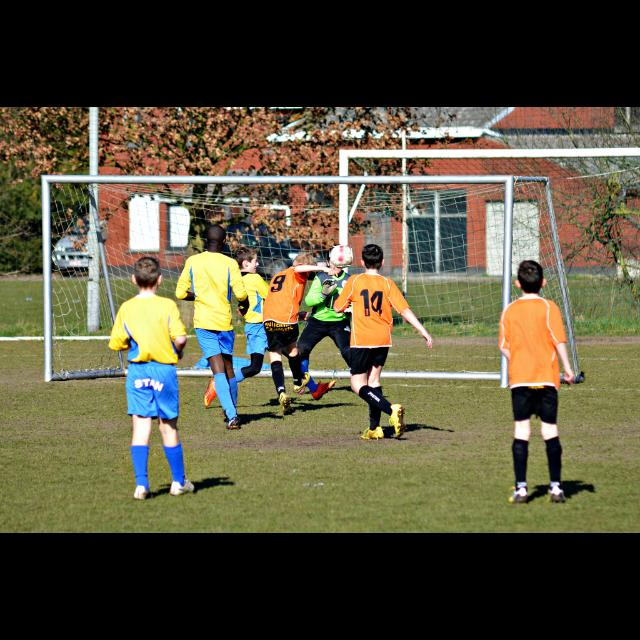Football: (329, 245, 353, 267)
